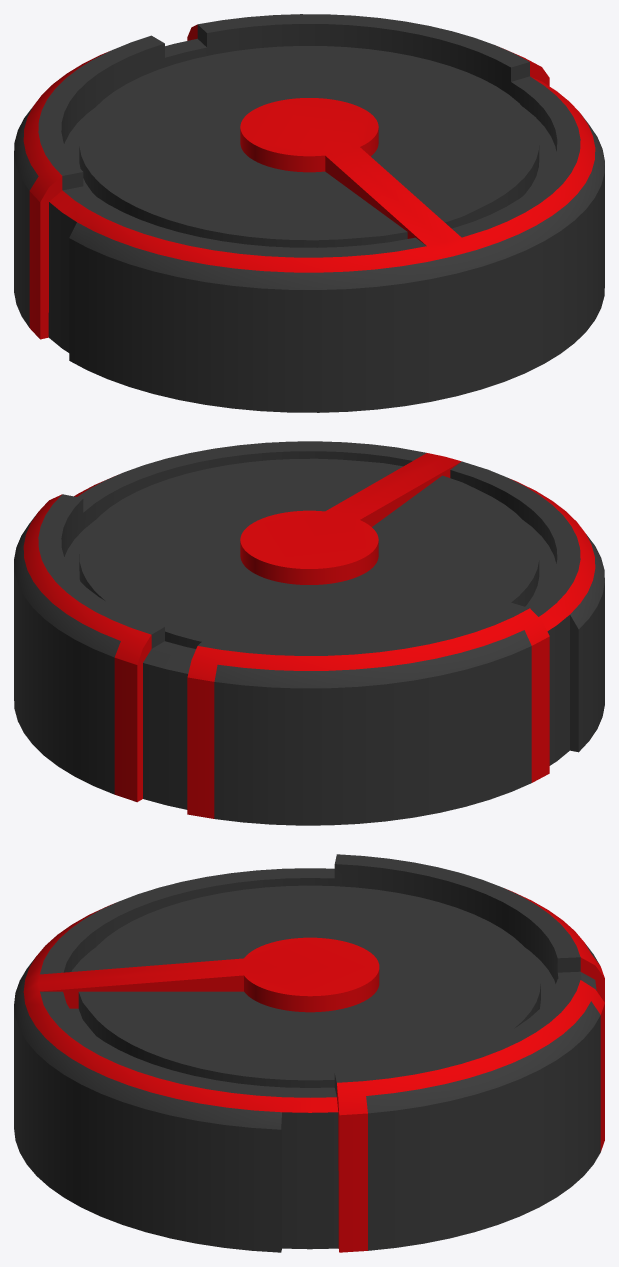
File: bubbla.fbx
The picture shows the model from 3 angles, top to bottom: view 1: azimuth 30°, elevation 25°; view 2: azimuth 150°, elevation 25°; view 3: azimuth 270°, elevation 25°; orthographic projection.
Parts seen in each view (by area): view 1: Bubbla; view 2: Bubbla; view 3: Bubbla.
Boxes of the visible parts, bbox=[...] form: Bubbla: bbox=[14, 14, 604, 412]; Bubbla: bbox=[14, 441, 604, 825]; Bubbla: bbox=[14, 854, 604, 1252].
Size of the model in its own units: 79.61 by 24.02 by 79.81.
